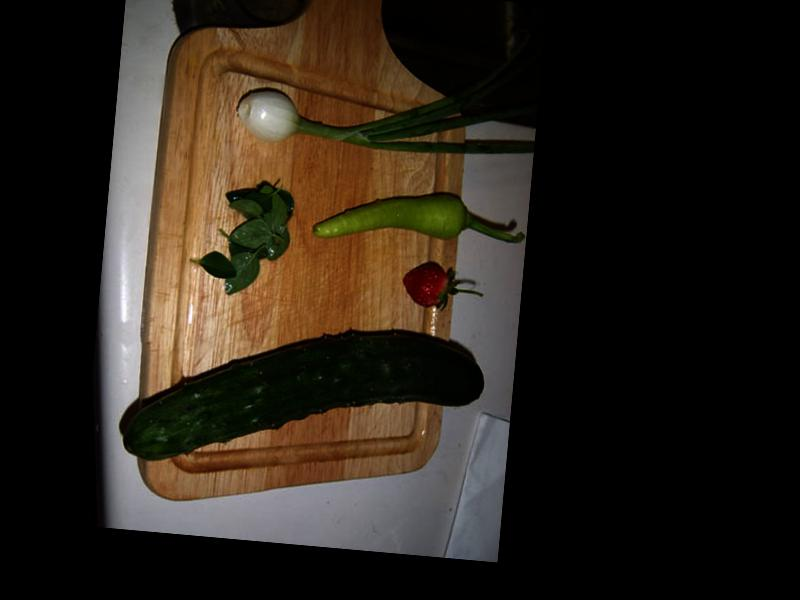Cucumber: (121, 310, 486, 488)
